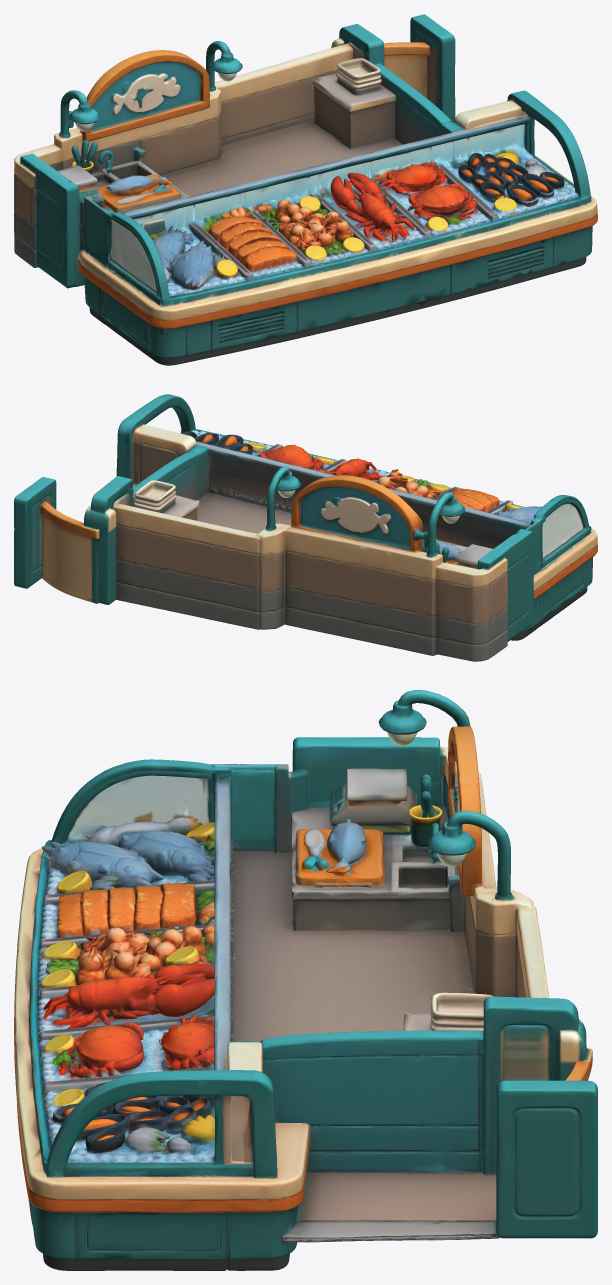
File: SeafoodCounter.fbx
The picture shows the model from 3 angles, top to bottom: view 1: azimuth 30°, elevation 25°; view 2: azimuth 150°, elevation 25°; view 3: azimuth 270°, elevation 25°; orthographic projection. The views are drawn at different scales.
Visible parts, largest first — view 1: tripo_node_5869748f-fd7b-4aff-9c02-3ee13aab27fd; view 2: tripo_node_5869748f-fd7b-4aff-9c02-3ee13aab27fd; view 3: tripo_node_5869748f-fd7b-4aff-9c02-3ee13aab27fd.
Boxes of the visible parts, x1,y1,x2,y2 form: tripo_node_5869748f-fd7b-4aff-9c02-3ee13aab27fd: (14,14,597,365); tripo_node_5869748f-fd7b-4aff-9c02-3ee13aab27fd: (14,394,597,661); tripo_node_5869748f-fd7b-4aff-9c02-3ee13aab27fd: (14,690,597,1270).
Size of the model in its own units: 97.96 by 38.22 by 69.18.
Materials: 1 (1 with a texture image).
